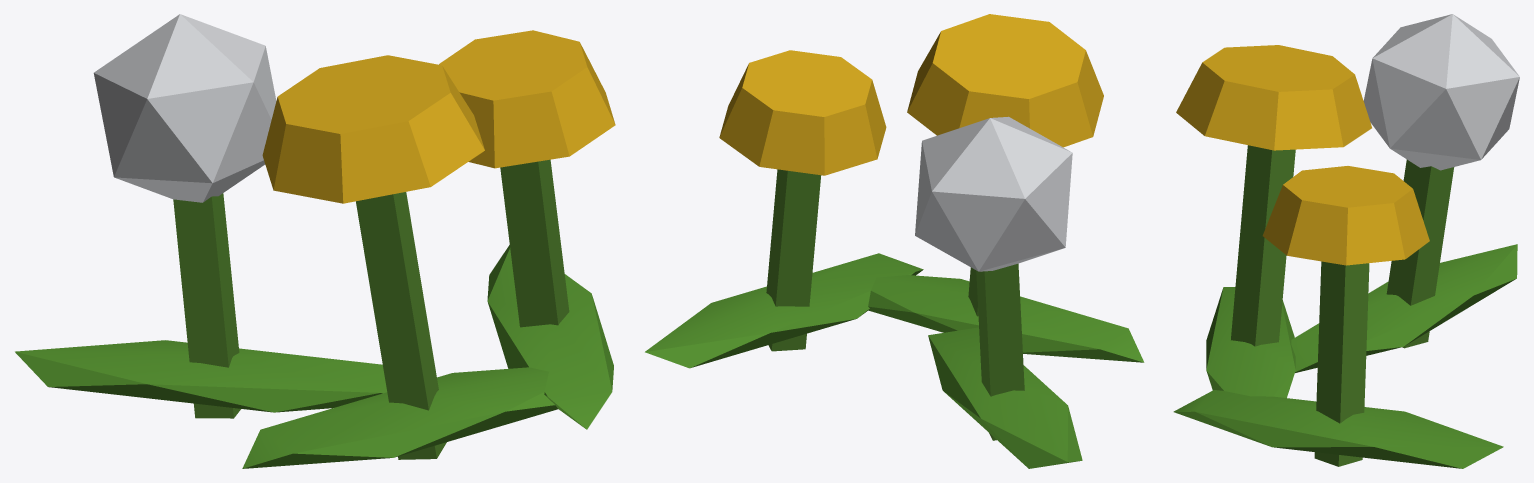
Rendered from p_flower_4.glb.
The picture shows the model from 3 angles, left to right: view 1: azimuth 30°, elevation 25°; view 2: azimuth 150°, elevation 25°; view 3: azimuth 270°, elevation 25°; orthographic projection. The views are drawn at different scales.
Parts seen in each view (by area): view 1: body; view 2: body; view 3: body.
Boxes of the visible parts, x1,y1,x2,y2 form: body: (15,14,615,468); body: (645,14,1144,468); body: (1173,14,1519,468).
Bounding box in the file's own units: 0.4516 × 0.3258 × 0.317.
